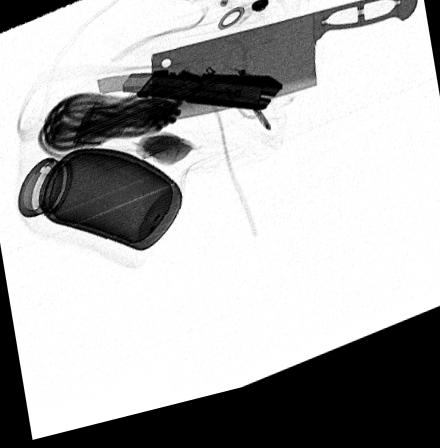Knife: (151, 8, 419, 134), (96, 76, 284, 125)
